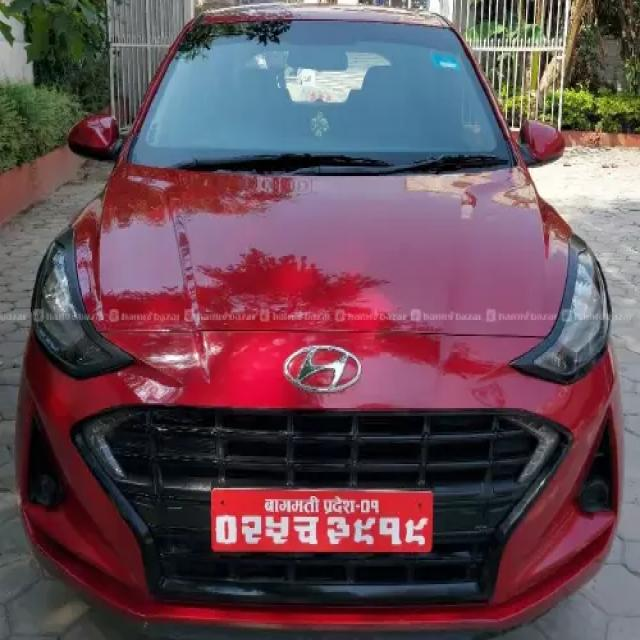License-plate: (212, 482, 434, 554)
